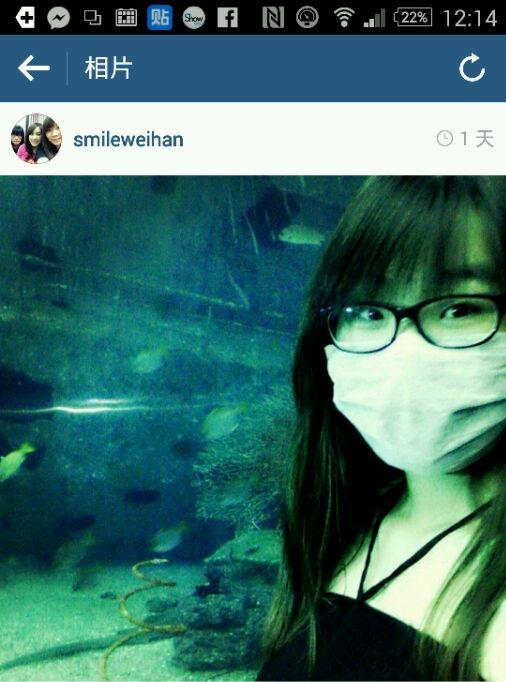OK: (313, 277, 502, 477)
